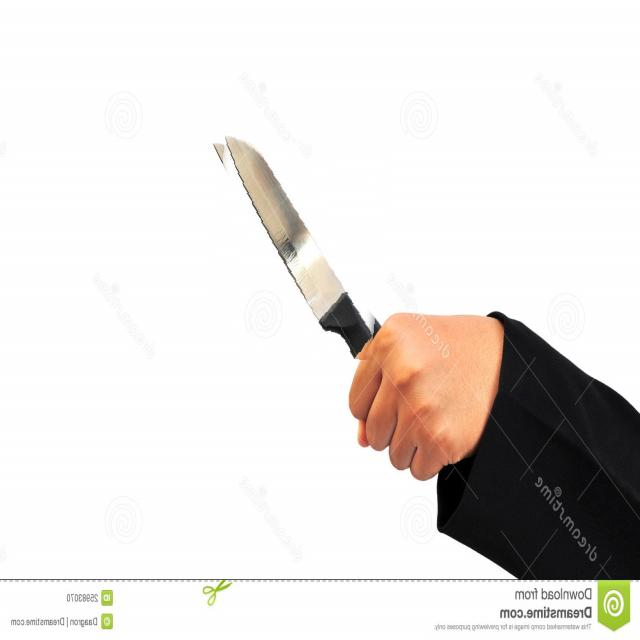knife: (208, 139, 386, 356)
